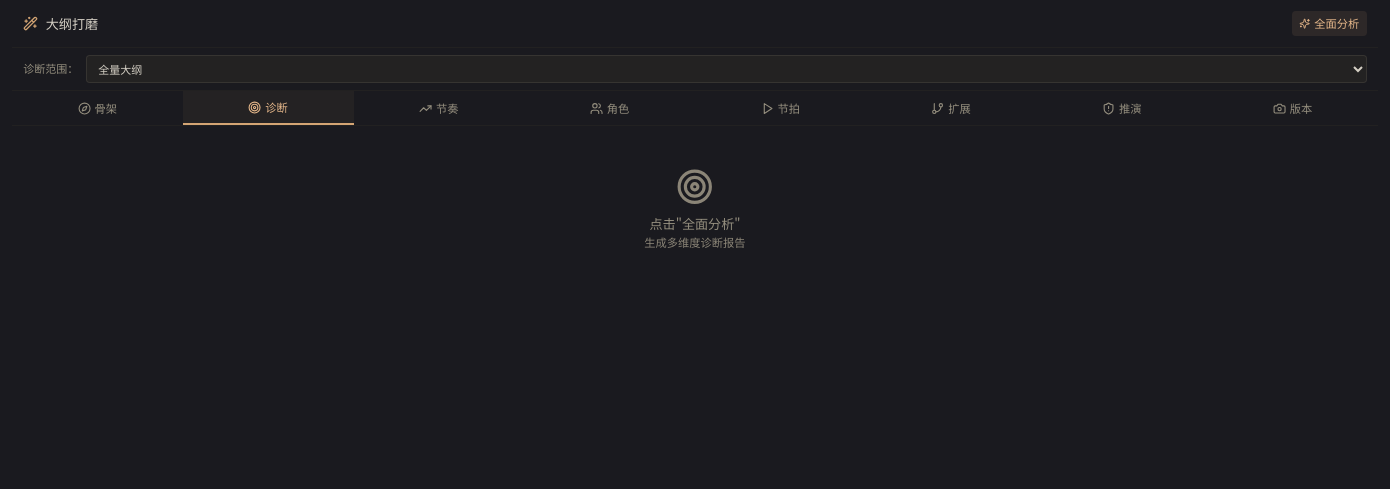
Test case: OutlinePolishPanel › 已生成结构变体时展示变体列表
Click the button "骨架".
click(97, 108)  # box [12,91,183,125]
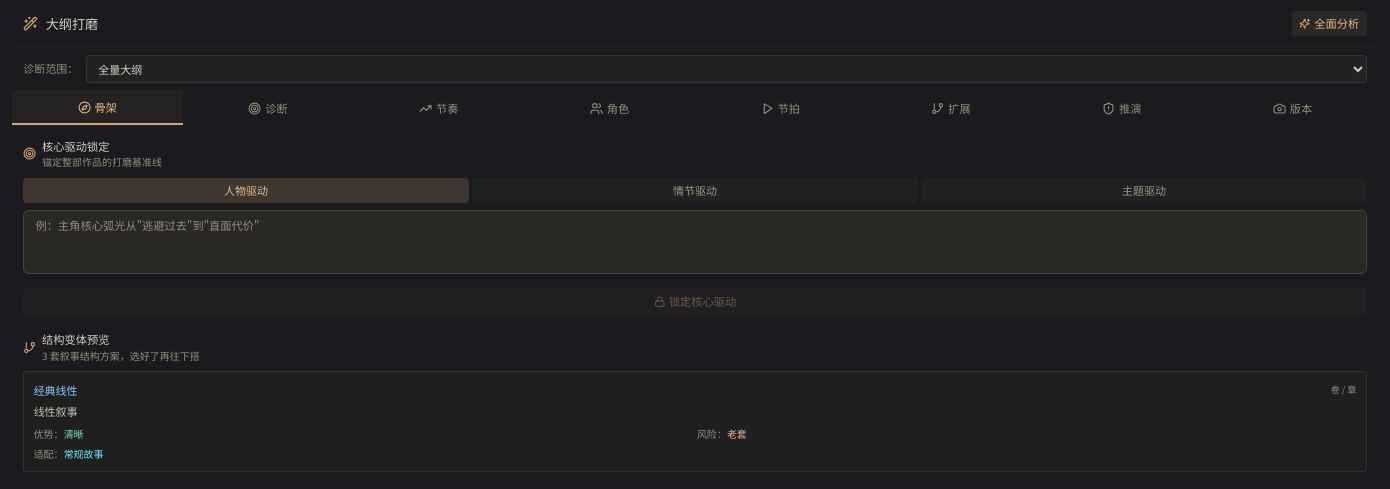
Expected: the text "经典线性" is shown, [34,382,78,399]
Expected: the text "线性叙事" is shown, [34,403,78,419]
Expected: the text "卷 / 章" is shown, [1331,383,1356,398]
